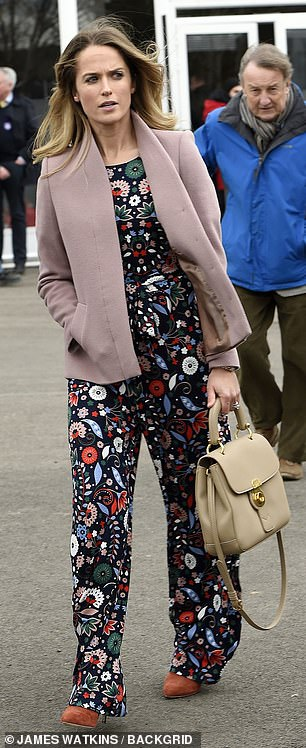Person: (32, 13, 241, 726), (216, 44, 306, 296)
